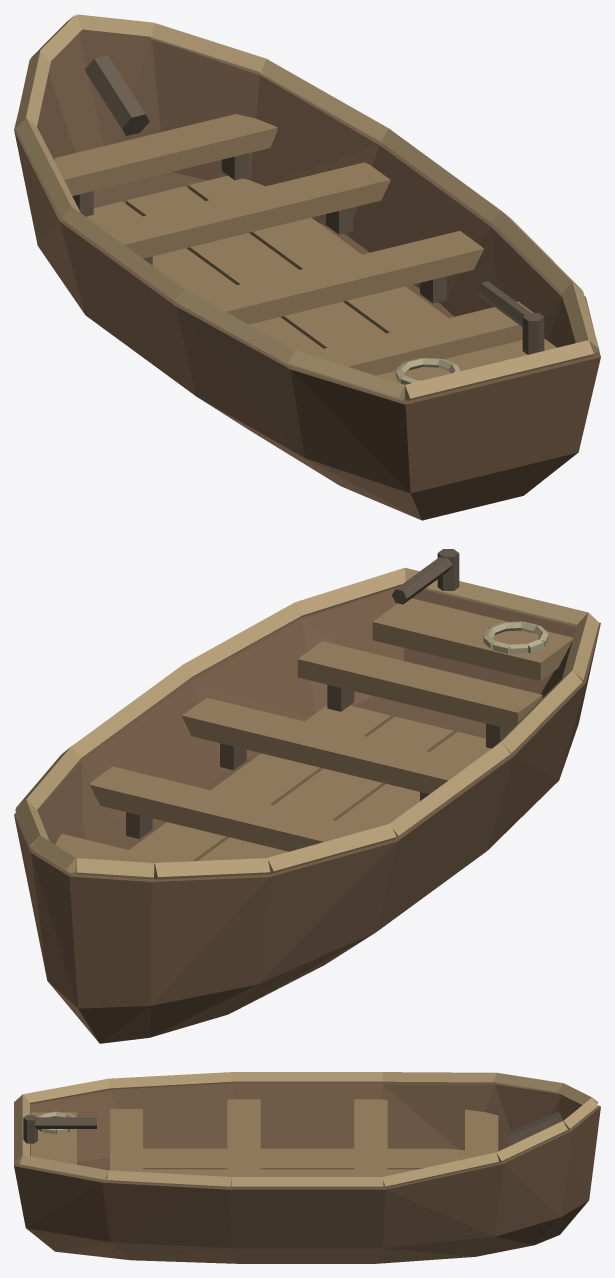
File: Boat_River.fbx
3 views of the same model, one above another, from view 1: azimuth 30°, elevation 25°; view 2: azimuth 150°, elevation 25°; view 3: azimuth 270°, elevation 25° (orthographic). The views are drawn at different scales.
Parts seen in each view (by area): view 1: Boat_River; view 2: Boat_River; view 3: Boat_River.
Boxes of the visible parts, x1,y1,x2,y2 form: Boat_River: (14, 14, 600, 520); Boat_River: (14, 549, 600, 1043); Boat_River: (14, 1072, 600, 1263).
Size of the model in its own units: 2.7 by 1.55 by 6.
